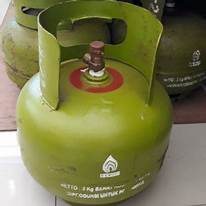gas_ijo: (17, 1, 173, 206), (4, 2, 112, 95), (121, 2, 205, 98)
